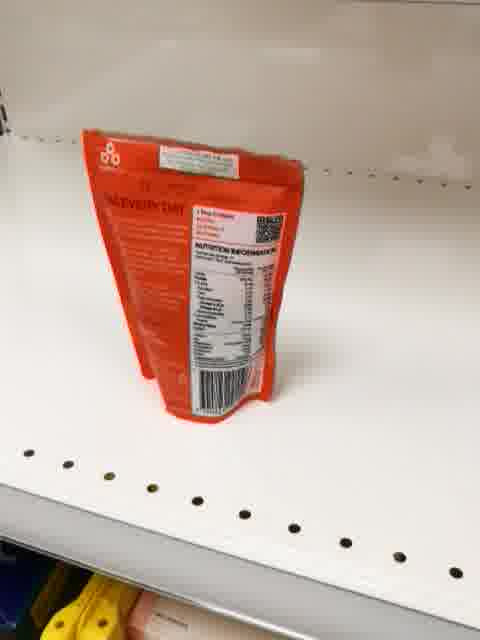whitechia: (80, 121, 307, 426)
